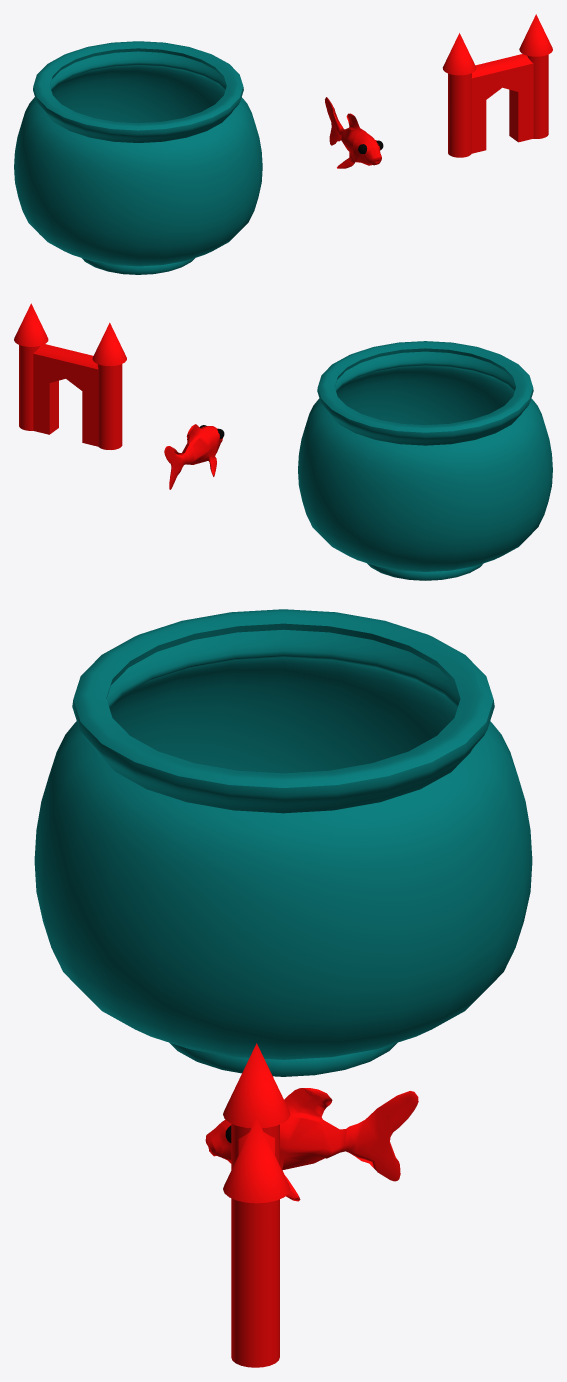
Rendered from FBCUvmappedalltogether.obj.
The picture shows the model from 3 angles, top to bottom: view 1: azimuth 30°, elevation 25°; view 2: azimuth 150°, elevation 25°; view 3: azimuth 270°, elevation 25°; orthographic projection. The views are drawn at different scales.
Parts seen in each view (by area): view 1: Bowl, Castle, polySurface1 goldfish; view 2: Bowl, Castle, polySurface1 goldfish; view 3: Bowl, Castle, polySurface1 goldfish.
Part boxes in pixels (x1,y1,x2,y2): Bowl: (14, 41, 262, 274); Castle: (442, 14, 552, 157); polySurface1 goldfish: (325, 97, 381, 168); Bowl: (298, 341, 552, 580); Castle: (14, 303, 126, 449); polySurface1 goldfish: (164, 424, 222, 489); Bowl: (34, 609, 532, 1076); Castle: (223, 1043, 290, 1367); polySurface1 goldfish: (205, 1088, 418, 1201).
Size of the model in its own units: 44.33 by 13.91 by 18.61.
